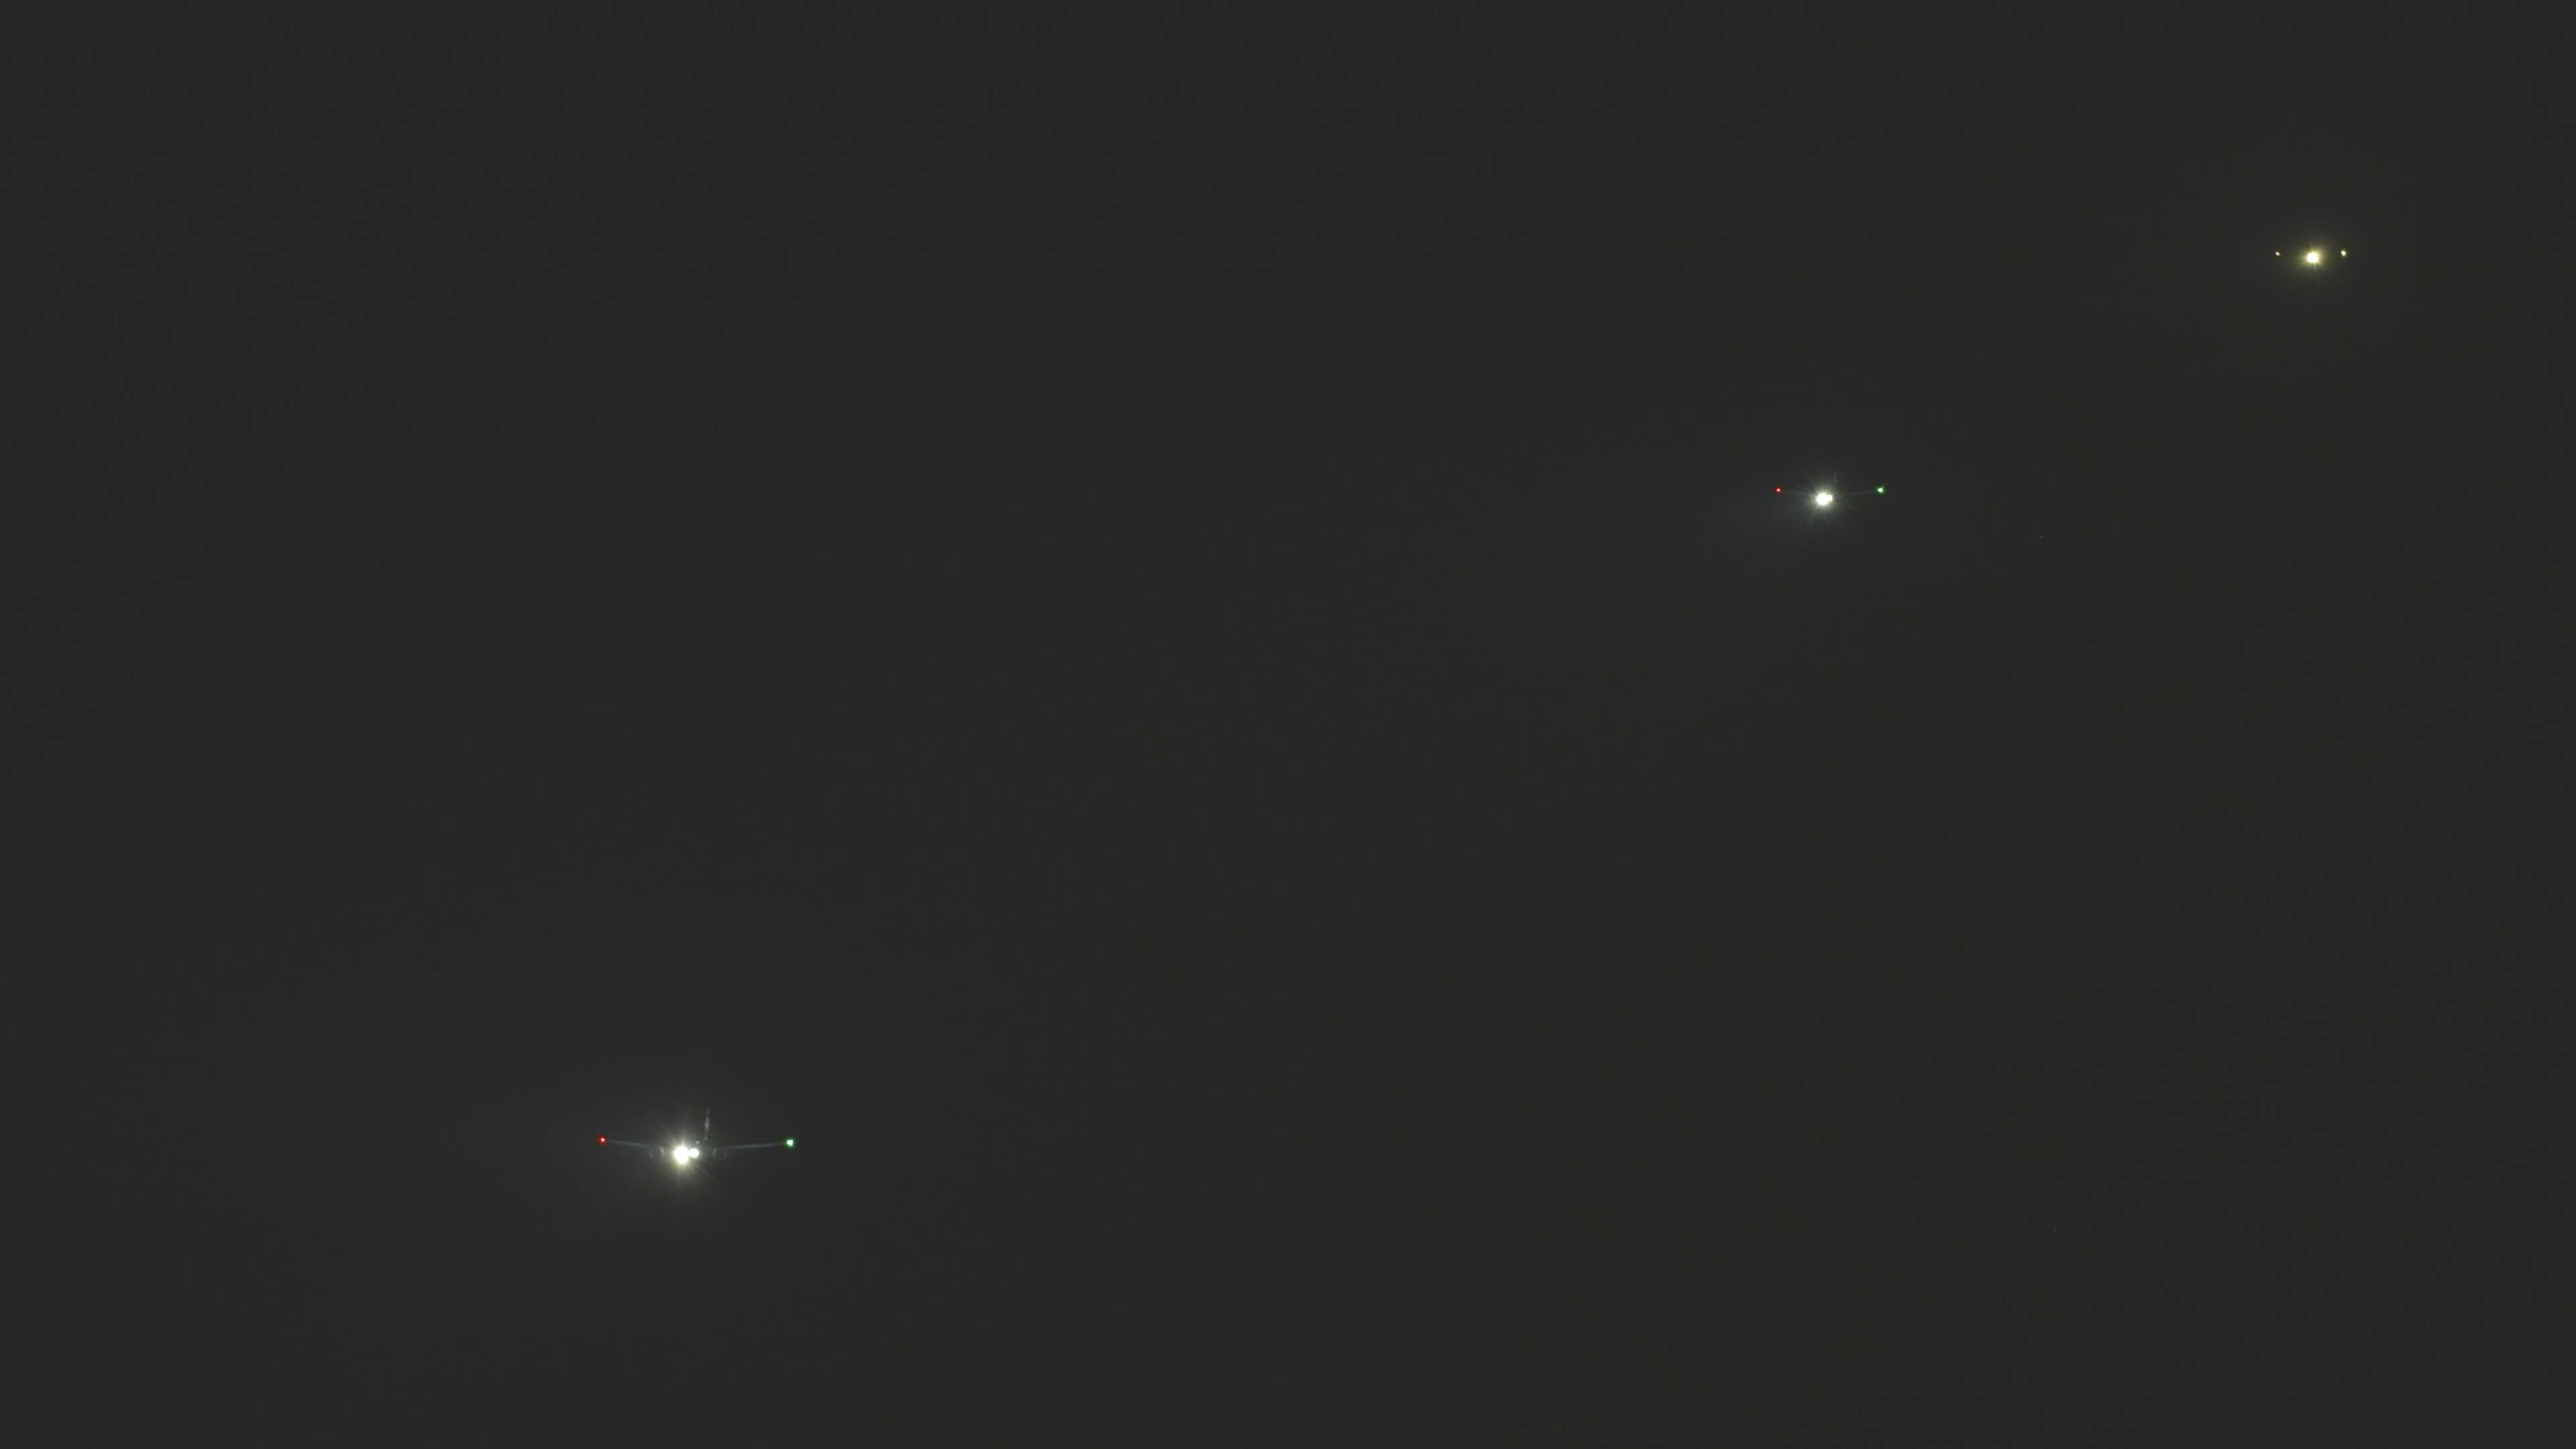Plane: (522, 1088, 863, 1192), (1720, 456, 1934, 522), (2224, 219, 2408, 287)
